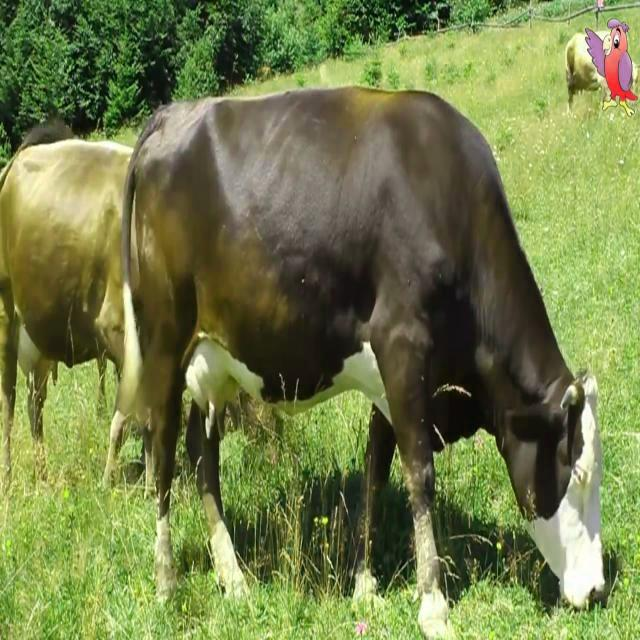cow: (124, 86, 604, 640), (0, 139, 139, 491)
